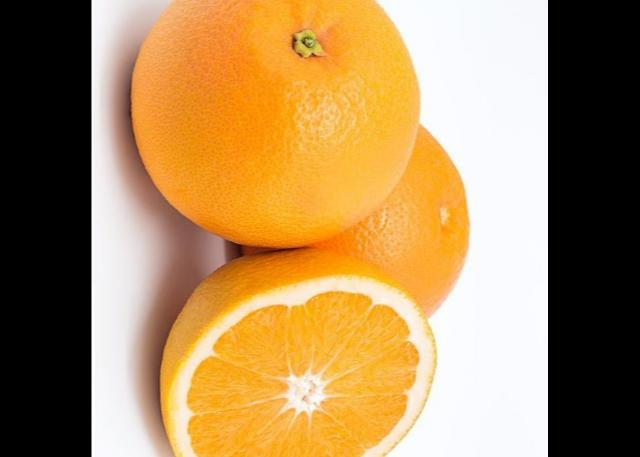Oranges: (128, 0, 423, 247), (158, 247, 439, 457), (235, 121, 472, 318)
